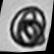correct: (4, 0, 54, 53)
